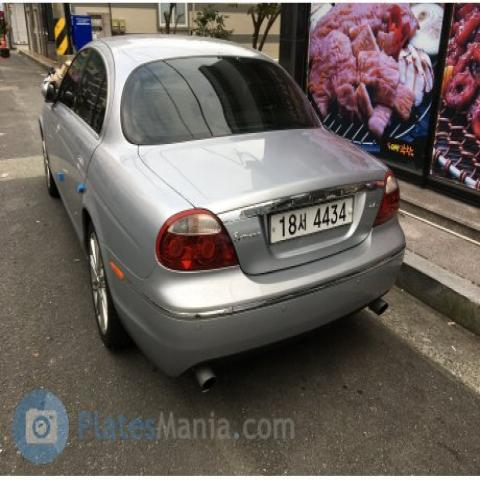LP: (259, 188, 363, 246)
